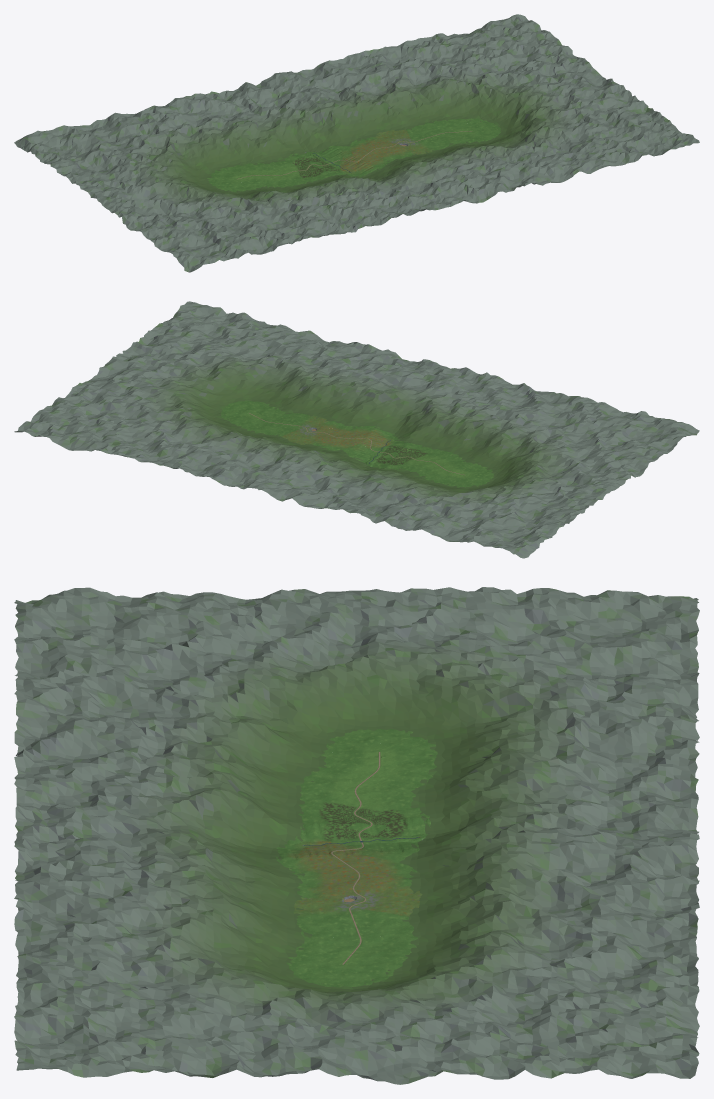
The model's file is wales.glb.
The picture shows the model from 3 angles, top to bottom: view 1: azimuth 30°, elevation 25°; view 2: azimuth 150°, elevation 25°; view 3: azimuth 270°, elevation 25°; orthographic projection. The views are drawn at different scales.
Visible parts, largest first — view 1: SM_Wales_Backdrop_0; view 2: SM_Wales_Backdrop_0; view 3: SM_Wales_Backdrop_0, SM_Wales_Tile_5_3, SM_Wales_Tile_4_2, SM_Wales_Tile_11_2, SM_Wales_Tile_3_2, SM_Wales_Tile_5_2, SM_Wales_Tile_10_2, SM_Wales_Tile_12_2, SM_Wales_Tile_2_3, SM_Wales_Tile_2_2, SM_Wales_Tile_9_2, SM_Wales_Tile_8_2 (+12 smaller).
Boxes of the visible parts, left/top/right/bottom form: SM_Wales_Backdrop_0: left=14, top=14, right=699, bottom=272; SM_Wales_Backdrop_0: left=14, top=301, right=699, bottom=558; SM_Wales_Backdrop_0: left=14, top=587, right=699, bottom=1084; SM_Wales_Tile_5_3: left=379, top=813, right=426, bottom=836; SM_Wales_Tile_4_2: left=332, top=792, right=380, bottom=814; SM_Wales_Tile_11_2: left=332, top=927, right=380, bottom=948; SM_Wales_Tile_3_2: left=332, top=771, right=380, bottom=793; SM_Wales_Tile_5_2: left=332, top=814, right=380, bottom=836; SM_Wales_Tile_10_2: left=332, top=906, right=380, bottom=928; SM_Wales_Tile_12_2: left=332, top=948, right=380, bottom=968; SM_Wales_Tile_2_3: left=379, top=751, right=426, bottom=772; SM_Wales_Tile_2_2: left=332, top=751, right=379, bottom=772; SM_Wales_Tile_9_2: left=332, top=886, right=380, bottom=907; SM_Wales_Tile_8_2: left=332, top=867, right=380, bottom=887.
Bounding box in the file's own units: 6281 × 245 × 3761.
